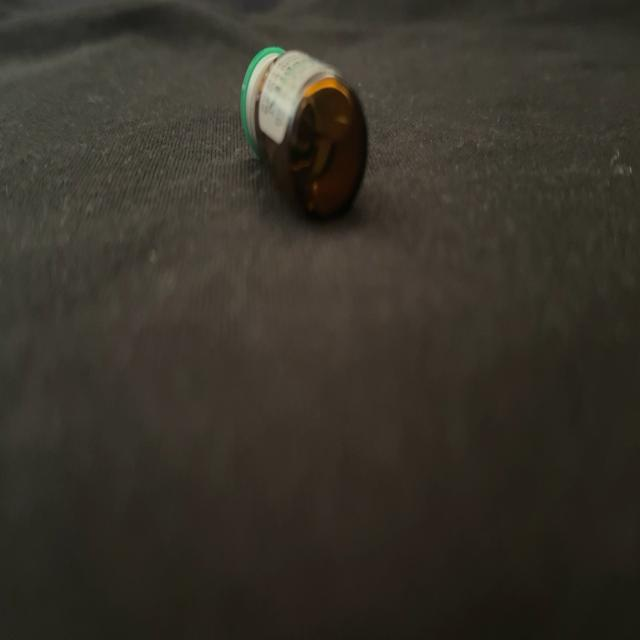midazolm: (243, 49, 366, 219)
